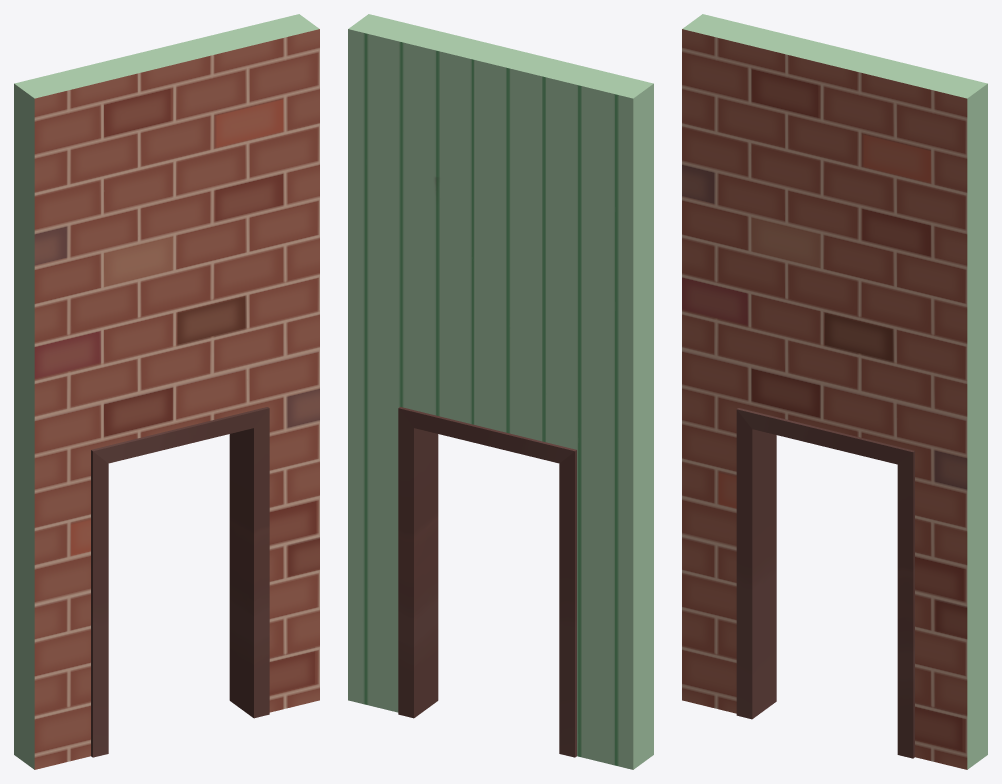
Rendered from outDoor.fbx.
3 views of the same model, side by side, from view 1: azimuth 30°, elevation 25°; view 2: azimuth 150°, elevation 25°; view 3: azimuth 330°, elevation 25° (orthographic).
Visible parts, largest first — view 1: outDoor; view 2: outDoor; view 3: outDoor.
Boxes of the visible parts, left/top/right/bottom form: outDoor: left=14, top=14, right=319, bottom=769; outDoor: left=348, top=14, right=653, bottom=769; outDoor: left=682, top=14, right=987, bottom=769.
Size of the model in its own units: 2 by 4.5 by 0.2966.
